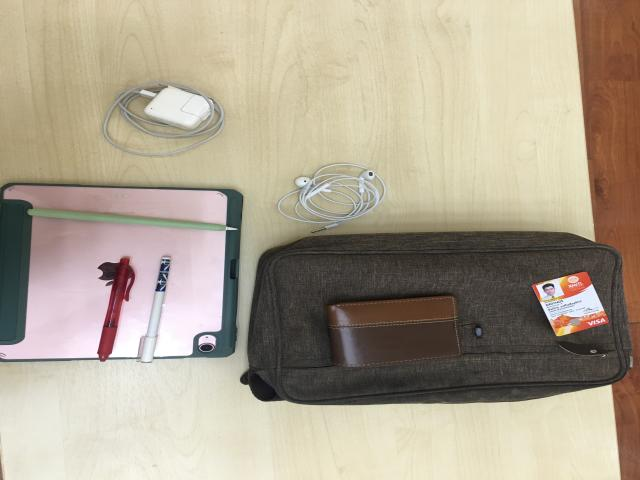Pen: (95, 257, 172, 363)
Wallet: (328, 296, 463, 368)
wire: (108, 80, 225, 156), (276, 163, 387, 231)
